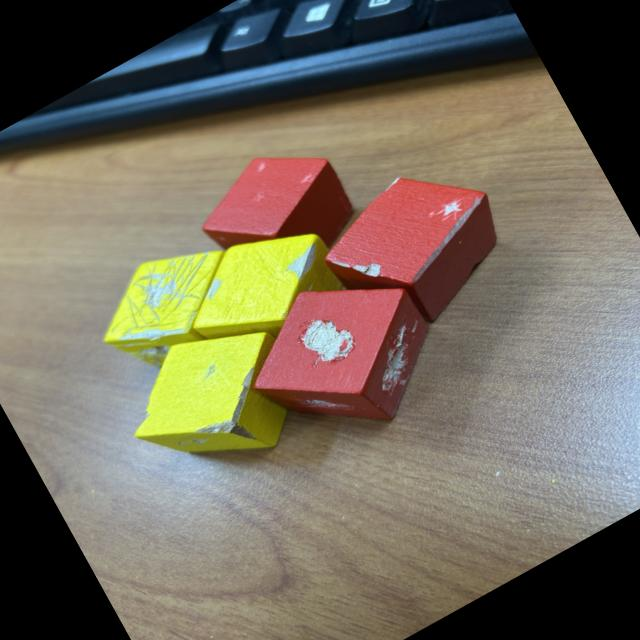broken: (222, 243, 462, 472), (305, 143, 529, 354), (102, 298, 324, 506), (166, 204, 359, 376), (184, 125, 368, 298), (79, 224, 262, 390)
